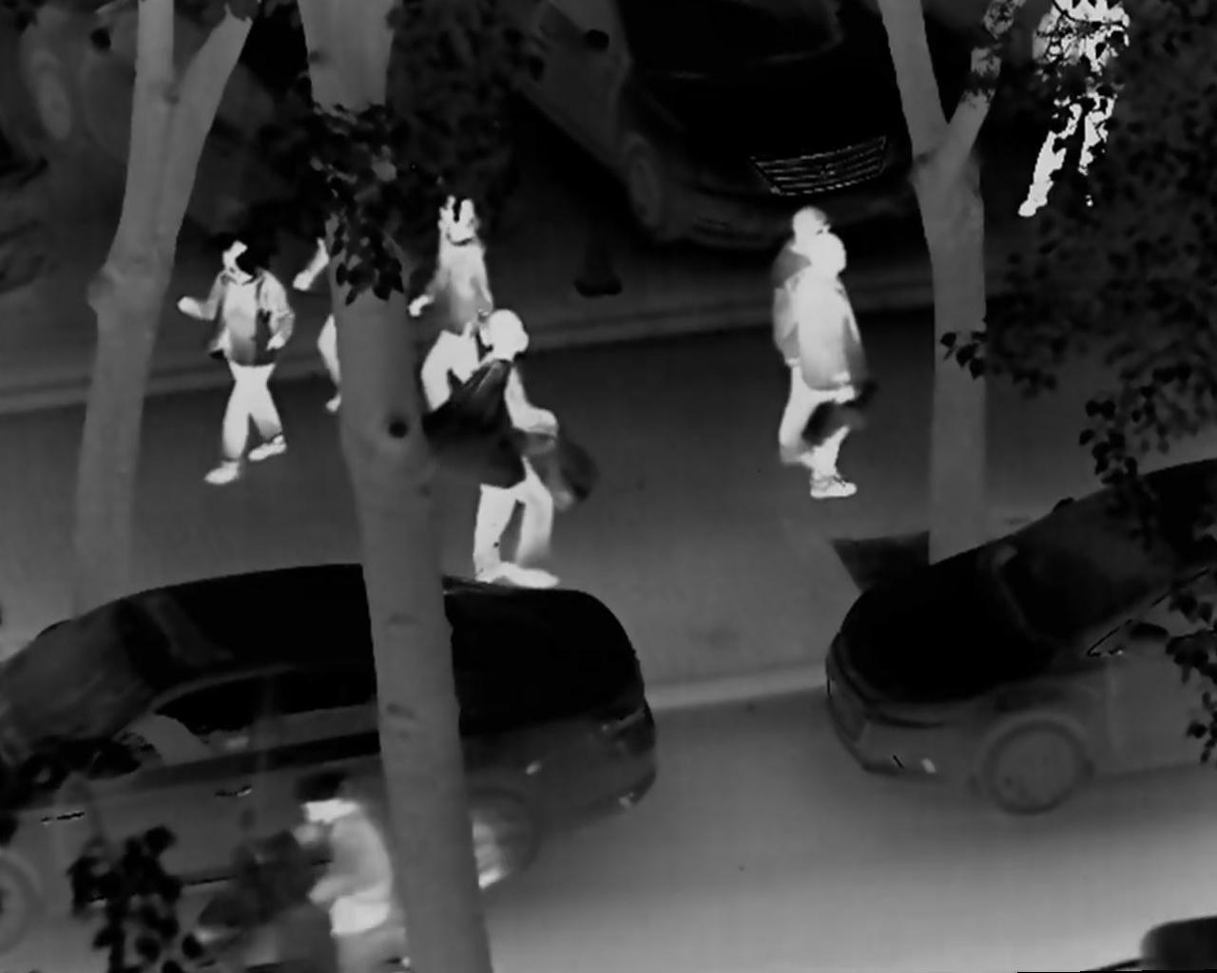person: (423, 309, 586, 593), (177, 233, 287, 485), (755, 200, 855, 468), (260, 771, 413, 946), (784, 235, 876, 503), (409, 190, 514, 423), (288, 215, 373, 418)
